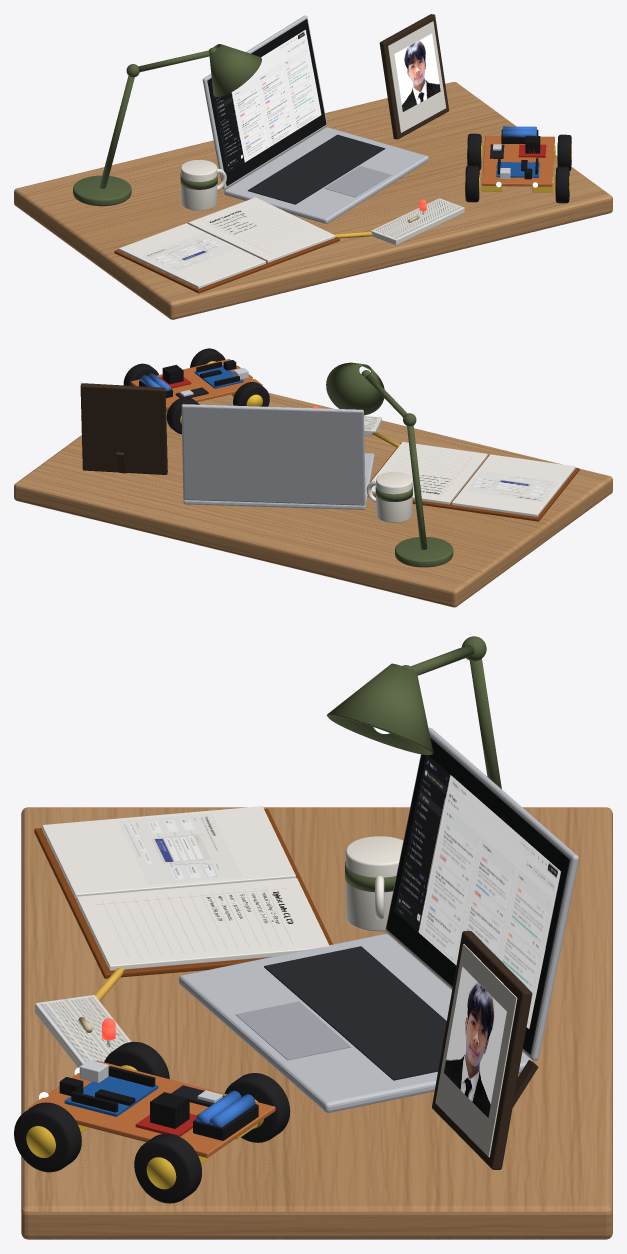
The model's file is desk.glb.
3 views of the same model, one above another, from view 1: azimuth 30°, elevation 25°; view 2: azimuth 150°, elevation 25°; view 3: azimuth 270°, elevation 25° (orthographic). The views are drawn at different scales.
Parts seen in each view (by area): view 1: Desk, Laptop_screen, Laptop_base, Laptop_keys, Notebook_notes, Notebook_page_L, Laptop_bezel, Frame_photo, Car_plate, Frame_mat, Lamp_shade, Notebook_cicd (+16 smaller); view 2: Desk, Laptop_lid, Frame_wood, Notebook_page_L, Notebook_notes, Lamp_shade, Notebook_cicd, Mug_body, Lamp_base, Car_plate, Laptop_base, Notebook_cover (+7 smaller); view 3: Desk, Laptop_screen, Laptop_base, Notebook_notes, Laptop_keys, Notebook_page_L, Laptop_bezel, Notebook_cicd, Lamp_shade, Frame_photo, Frame_wood, Frame_mat (+14 smaller).
Boxes of the visible parts, left/top/right/bottom form: Desk: left=14, top=82, right=612, bottom=319; Laptop_screen: left=214, top=29, right=321, bottom=172; Laptop_base: left=224, top=127, right=428, bottom=223; Laptop_keys: left=247, top=134, right=385, bottom=204; Notebook_notes: left=194, top=199, right=329, bottom=257; Notebook_page_L: left=119, top=223, right=265, bottom=288; Laptop_bezel: left=207, top=19, right=326, bottom=185; Frame_photo: left=394, top=33, right=440, bottom=111; Car_plate: left=482, top=136, right=554, bottom=186; Frame_mat: left=388, top=21, right=446, bottom=132; Lamp_shade: left=209, top=44, right=261, bottom=96; Notebook_cicd: left=140, top=233, right=235, bottom=272; Desk: left=14, top=392, right=612, bottom=607; Laptop_lid: left=181, top=404, right=365, bottom=505; Frame_wood: left=80, top=383, right=167, bottom=474; Notebook_page_L: left=452, top=454, right=575, bottom=516; Notebook_notes: left=371, top=444, right=482, bottom=499; Lamp_shade: left=326, top=362, right=384, bottom=415; Notebook_cicd: left=464, top=471, right=558, bottom=502; Mug_body: left=376, top=472, right=412, bottom=522; Lamp_base: left=395, top=537, right=453, bottom=567; Car_plate: left=130, top=359, right=262, bottom=409; Laptop_base: left=183, top=453, right=374, bottom=509; Notebook_cover: left=367, top=443, right=579, bottom=521; Desk: left=21, top=807, right=612, bottom=1239; Laptop_screen: left=394, top=755, right=560, bottom=1028; Laptop_base: left=179, top=934, right=533, bottom=1112; Notebook_notes: left=86, top=881, right=319, bottom=962; Laptop_keys: left=264, top=946, right=446, bottom=1080; Notebook_page_L: left=42, top=806, right=295, bottom=898; Laptop_bezel: left=386, top=737, right=569, bottom=1054; Notebook_cicd: left=117, top=813, right=242, bottom=884; Lamp_shade: left=327, top=663, right=433, bottom=755; Frame_photo: left=444, top=966, right=506, bottom=1117; Frame_wood: left=432, top=931, right=532, bottom=1169; Frame_mat: left=435, top=944, right=517, bottom=1157.
Bounding box in the file's own units: 8.44 × 3.01 × 5.26.
39 materials, 6 textured.
